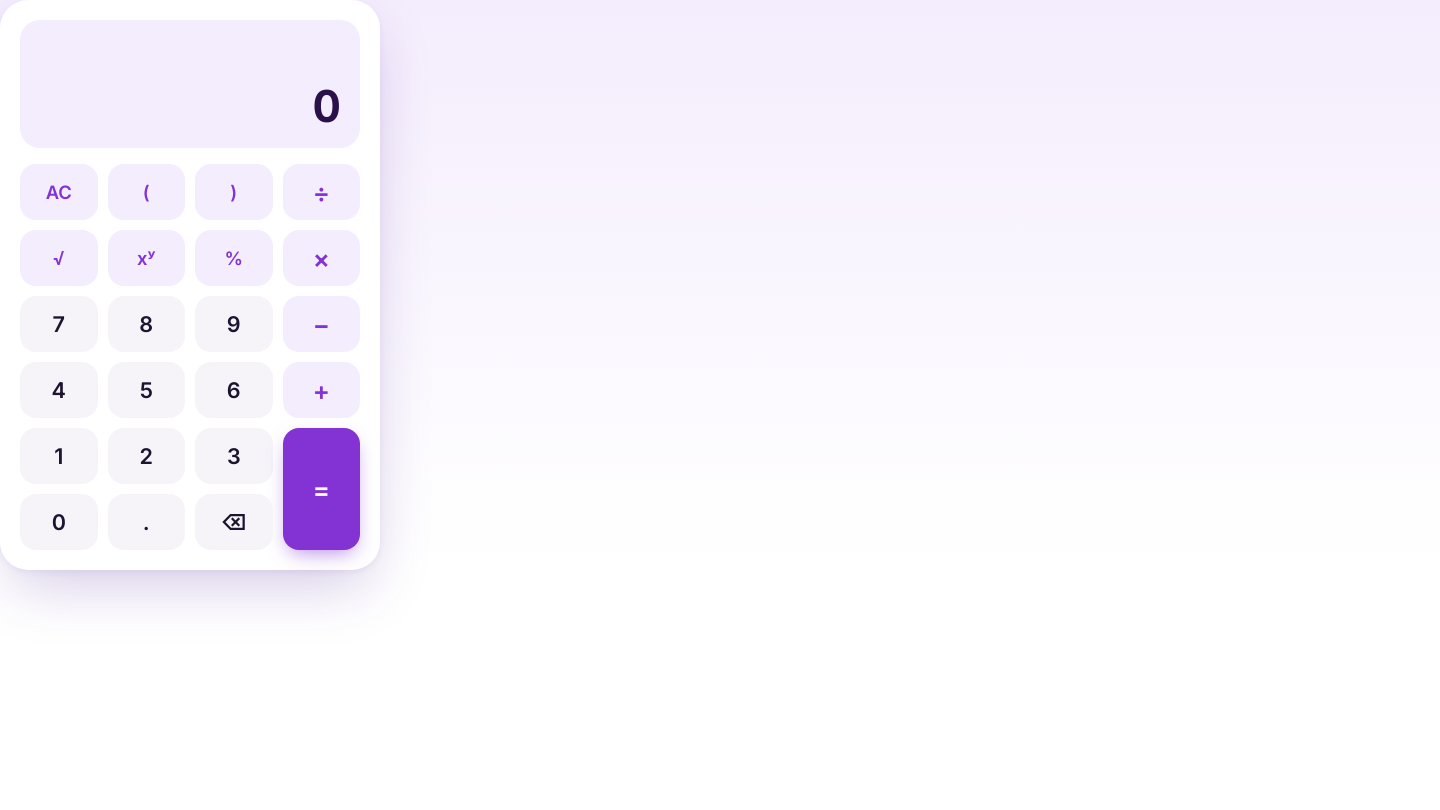
Test case: Calculator › supports square root in an expression
This screenshot has width=1440, height=810.
Click the button named "Square root". click: [59, 258]
box: x1=20 y1=230 x2=98 y2=286
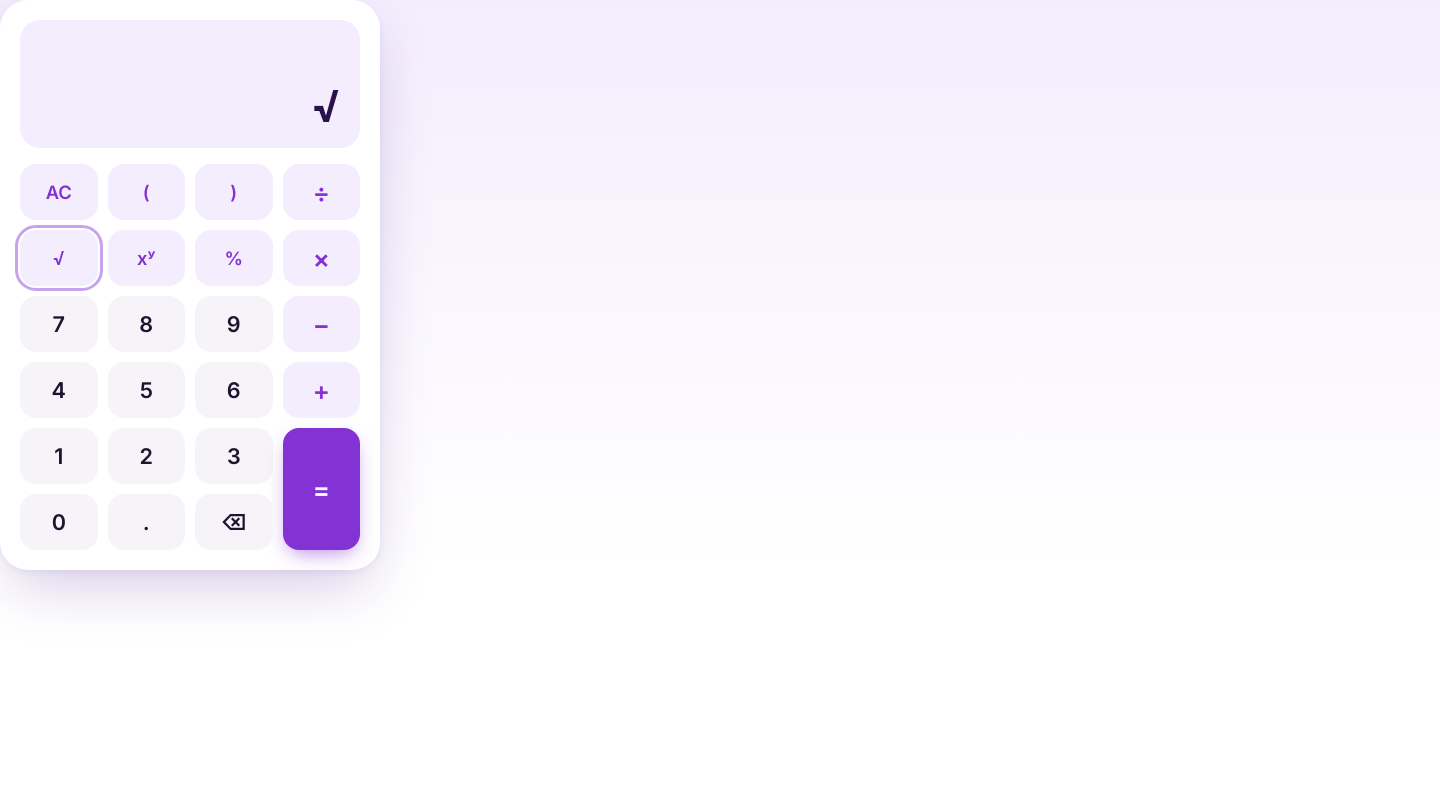
Click the button "9". click: [234, 324]
box: x1=195 y1=296 x2=272 y2=352
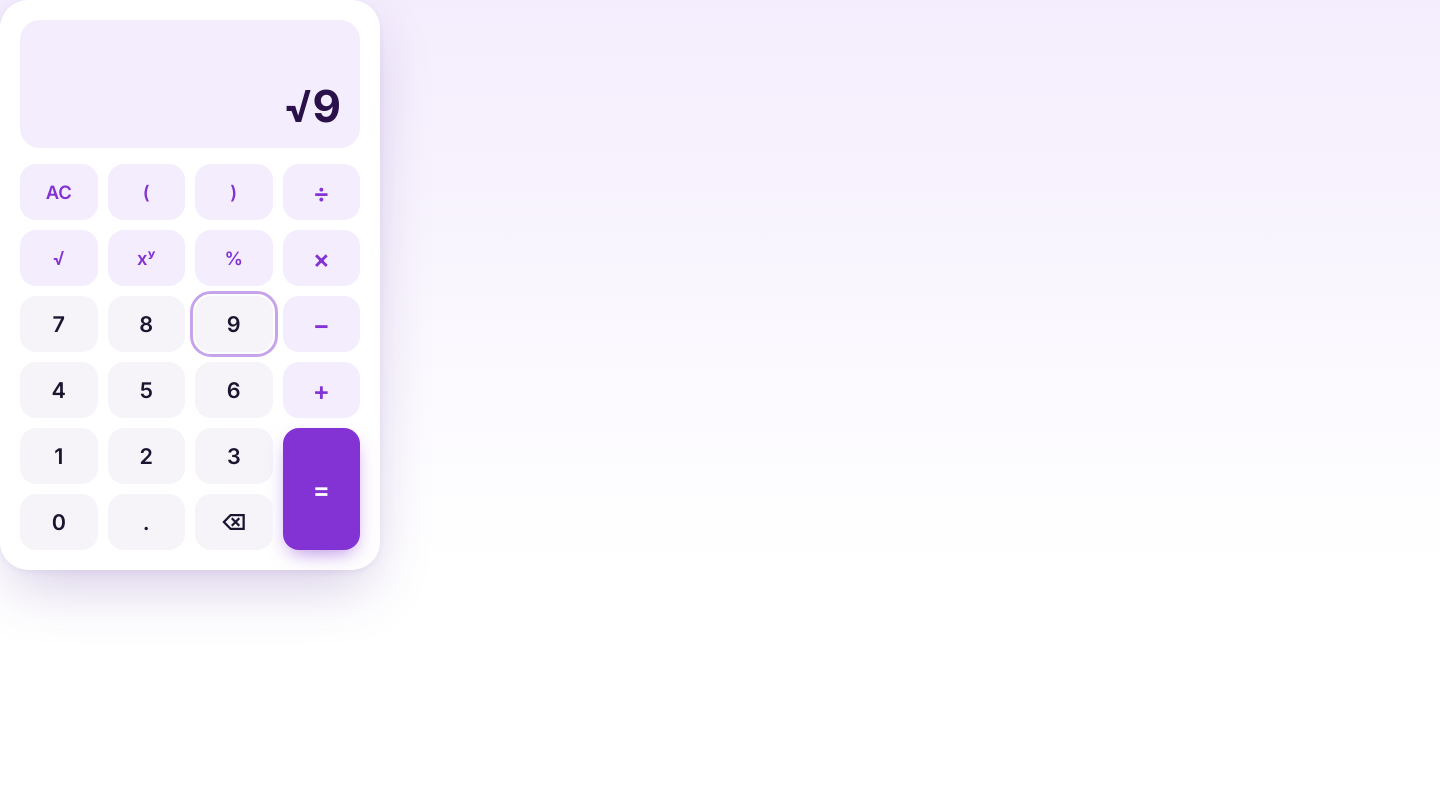
Click the button named "Add". click: [321, 390]
box: x1=282 y1=362 x2=360 y2=418
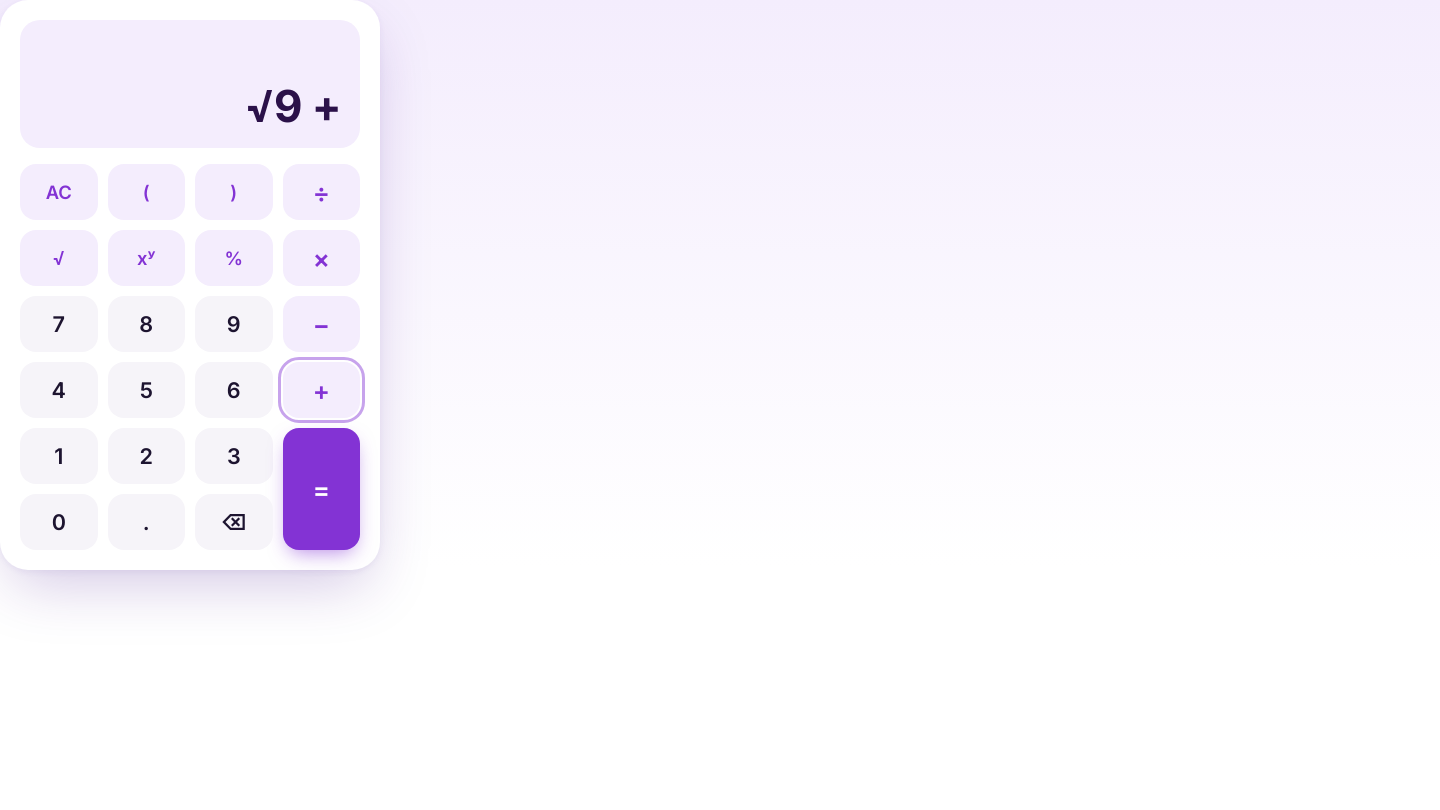
Click the button "1". click: [59, 456]
box: x1=20 y1=428 x2=98 y2=484
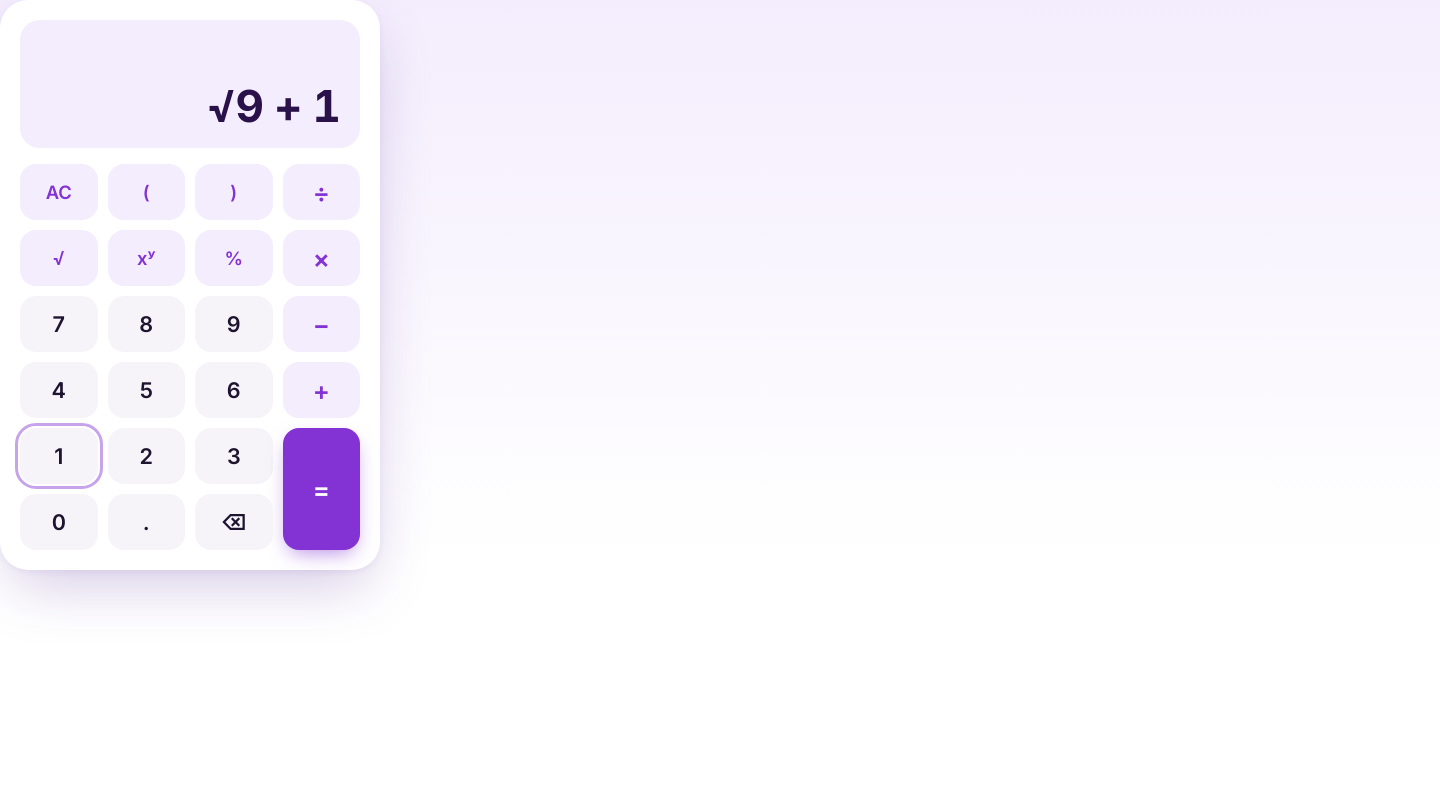
Result: the text named "Display" reads "√9 + 1" at x1=207 y1=79 x2=340 y2=133
Click the button named "Equals". click: [321, 489]
box: x1=282 y1=428 x2=360 y2=550
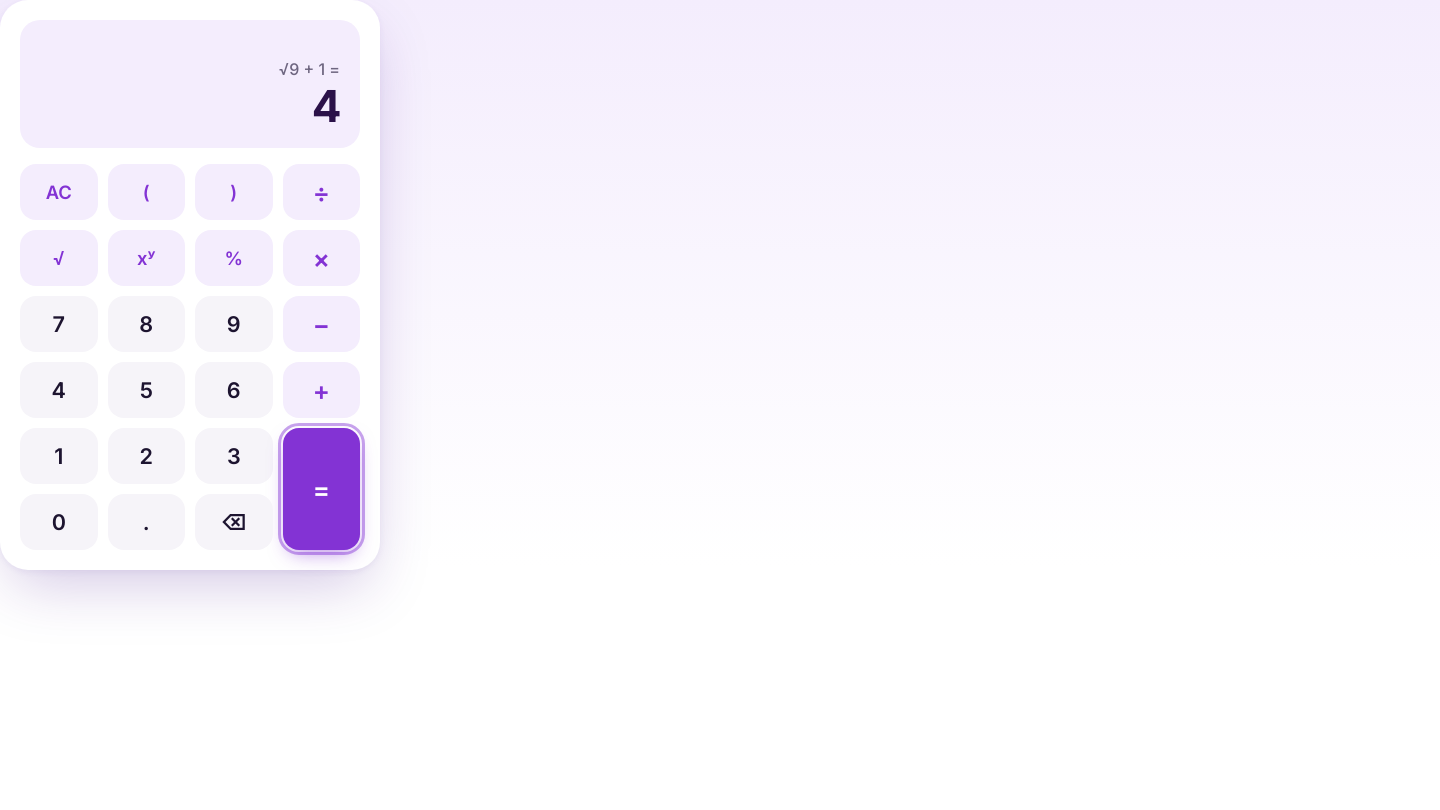
Result: the text named "Display" reads "4" at x1=312 y1=81 x2=340 y2=132
